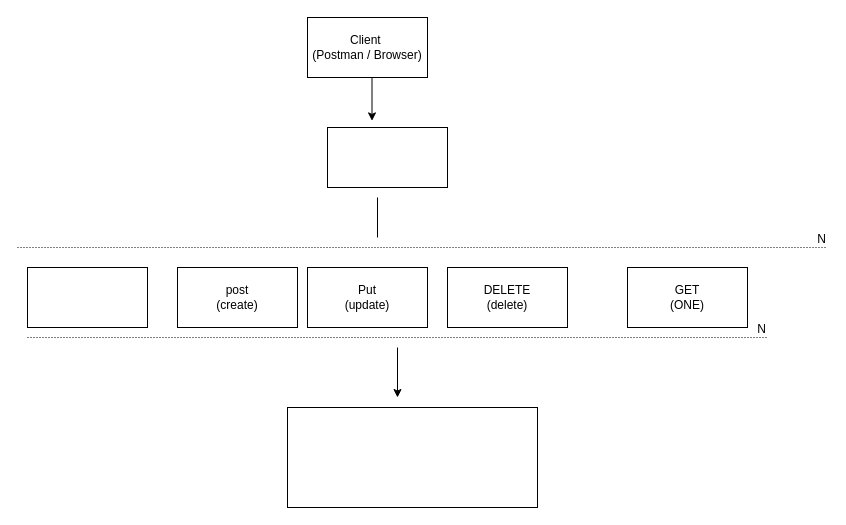
The diagram is 846 pixels wide and 525 high, and some of its shapes have lost their labels. Each missing label, with the centre of its shape:
"Express Server (API)" belongs at (387,157).
"GET POST (all)" belongs at (87,297).
"MySQL Database (users)" belongs at (412,457).
